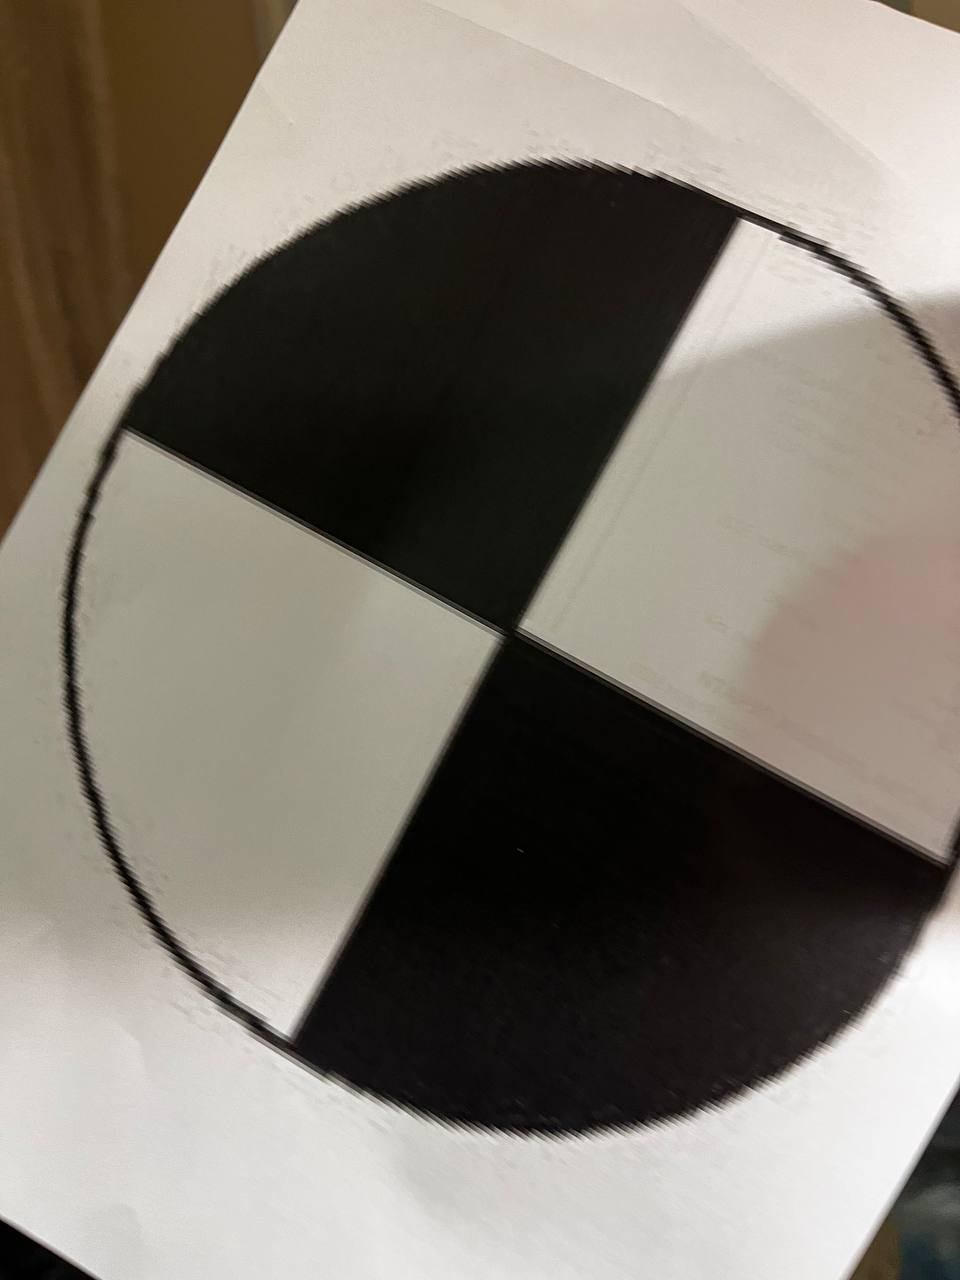pattern: (66, 158, 960, 1140)
